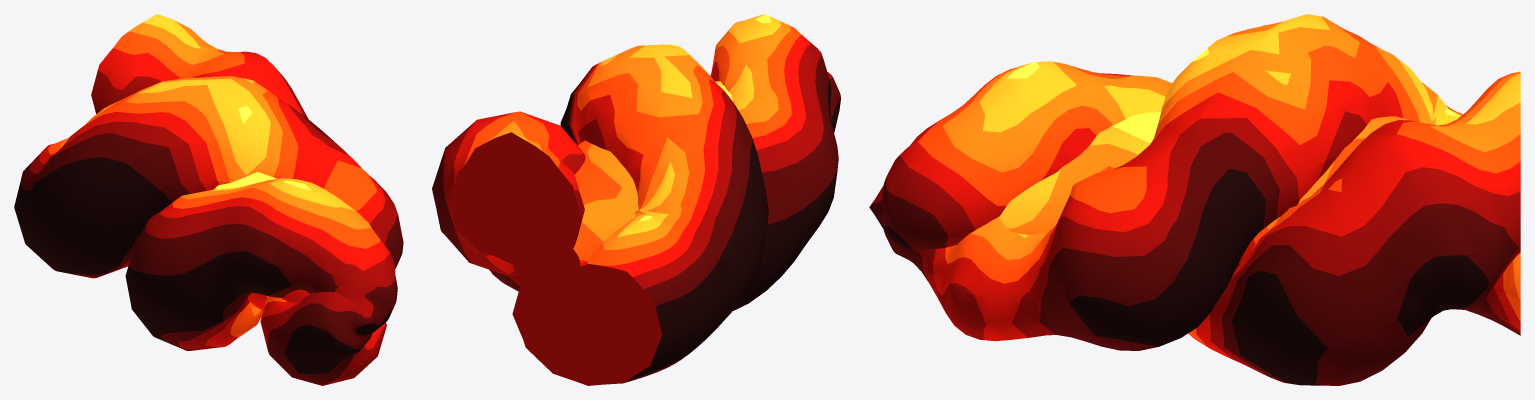
Rendered from drip_bottom.glb.
The picture shows the model from 3 angles, left to right: view 1: azimuth 30°, elevation 25°; view 2: azimuth 150°, elevation 25°; view 3: azimuth 270°, elevation 25°; orthographic projection. The views are drawn at different scales.
Visible parts, largest first — view 1: strand1.001, strand0.001, core.001; view 2: strand1.001, strand0.001, core.001; view 3: strand0.001, strand1.001, core.001.
Part boxes in pixels (x1,y1,x2,y2): strand1.001: (14, 76, 403, 385); strand0.001: (91, 14, 397, 350); core.001: (214, 172, 309, 309); strand1.001: (512, 44, 840, 385); strand0.001: (432, 14, 838, 310); core.001: (510, 81, 732, 301); strand0.001: (869, 61, 1520, 385); strand1.001: (875, 14, 1520, 350); core.001: (998, 112, 1410, 267).
Bounding box in the file's own units: 16.5 × 14.46 × 26.16.
